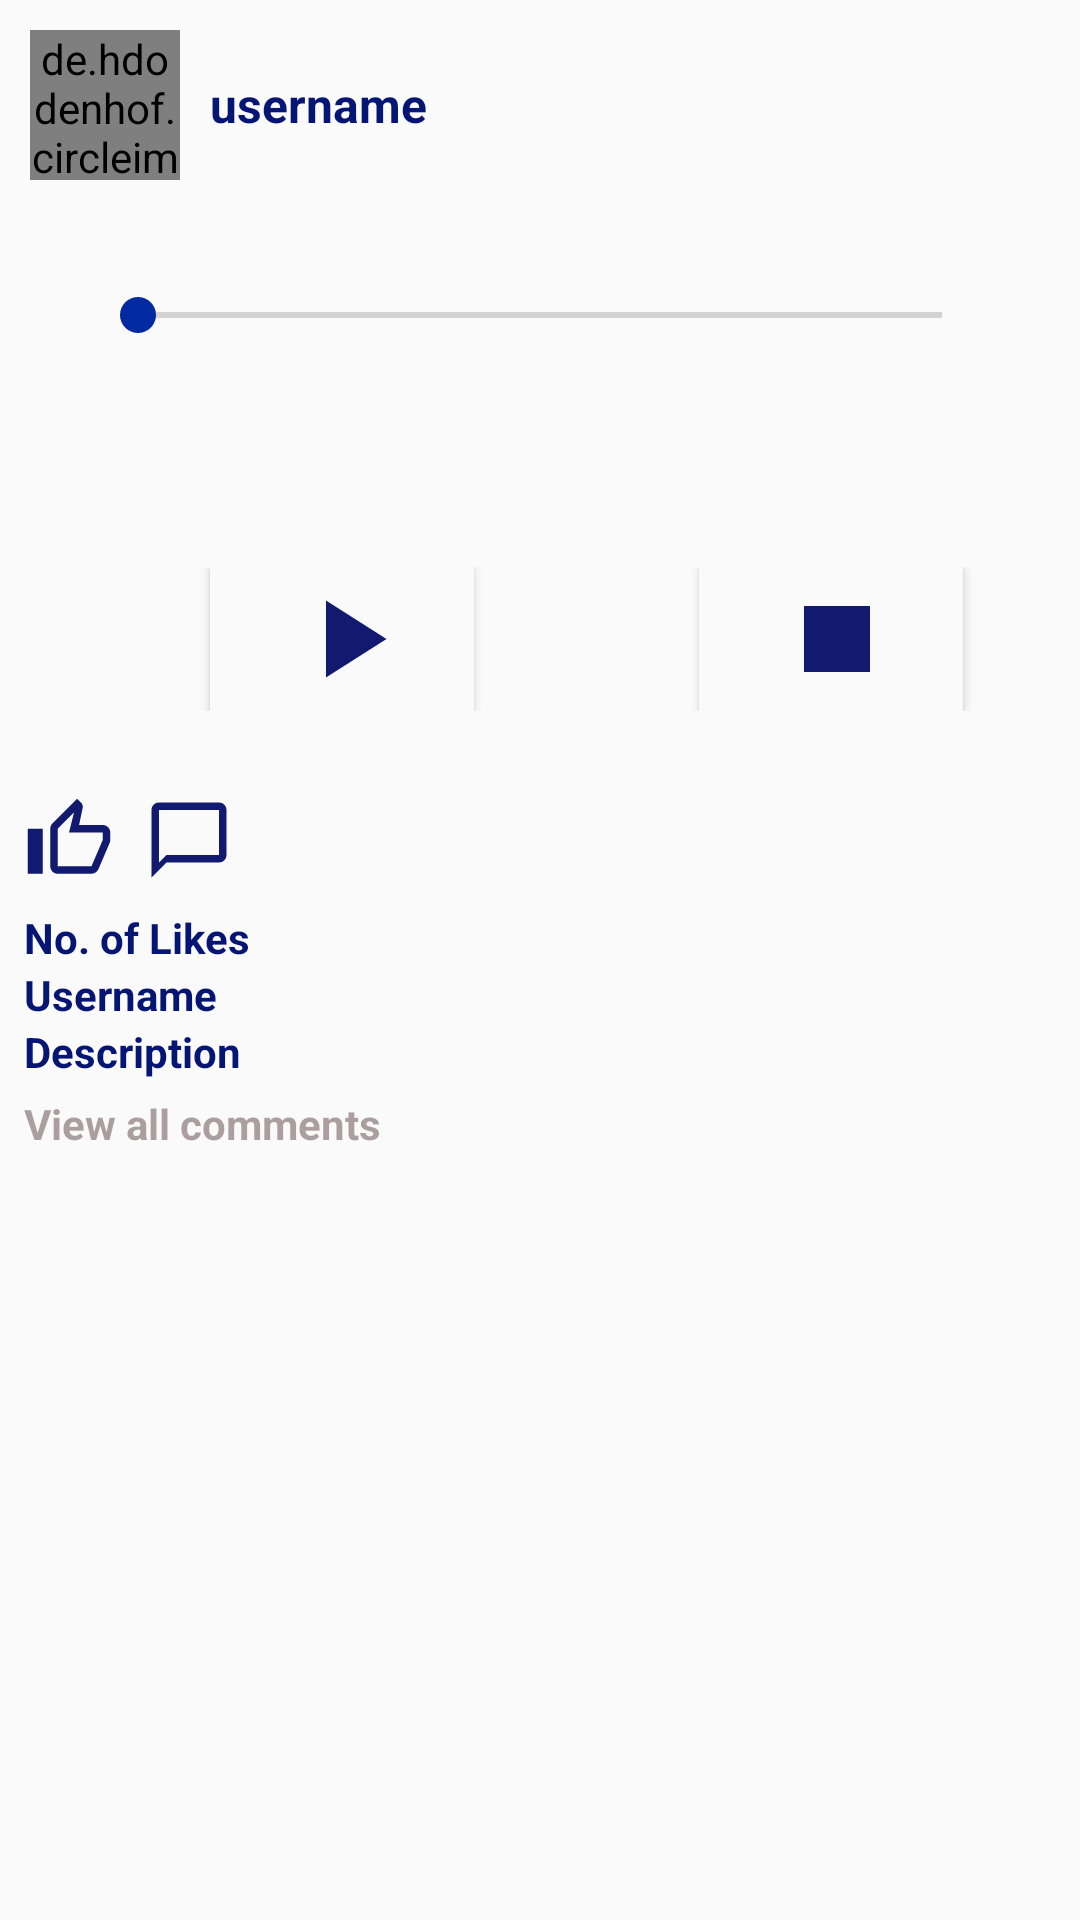

Named icons in this screenshot (1080x1920) and their bounding boxes, (x1, y1, x2, y2):
comment: (151, 802, 227, 878)
